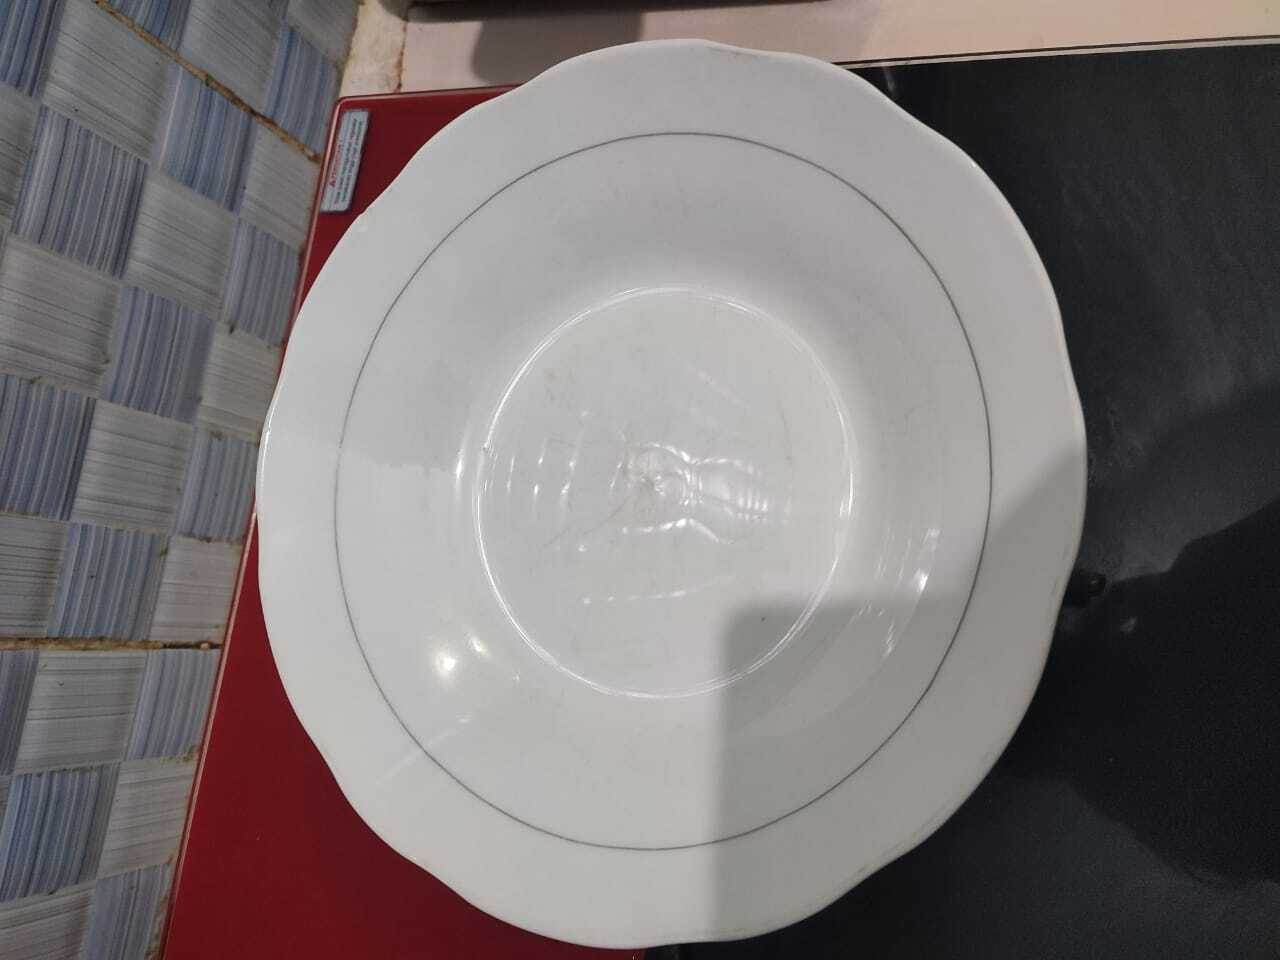piring: (244, 46, 1085, 946)
